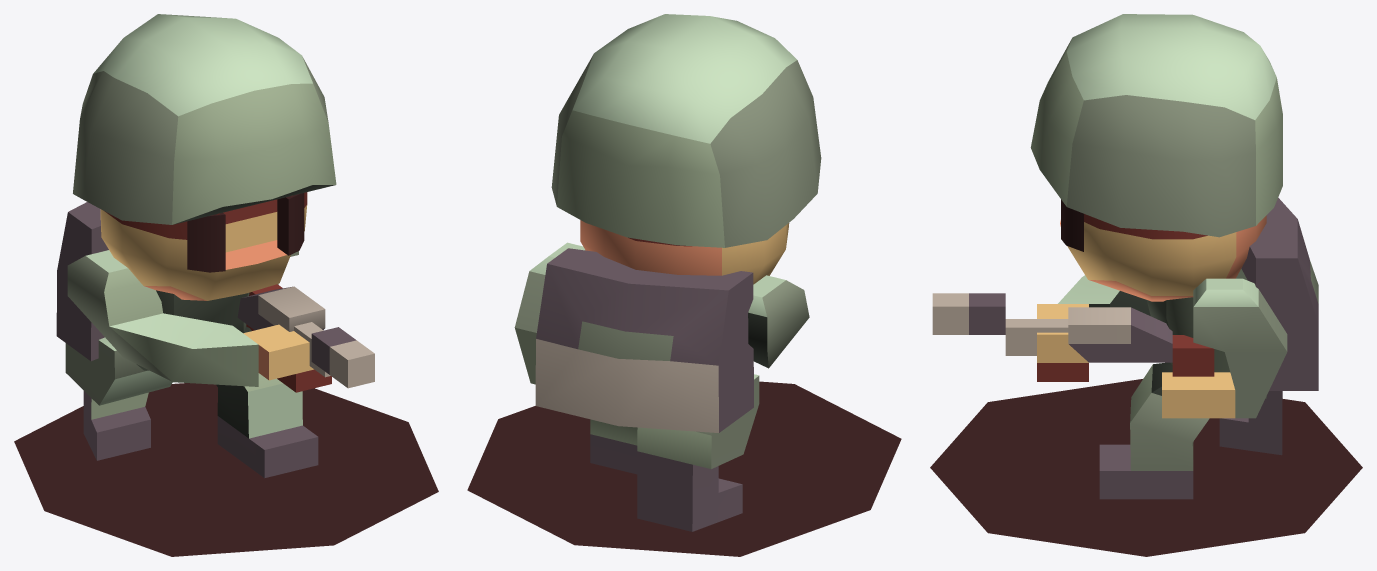
Rendered from InfantryMesh.JadeSun.glb.
The picture shows the model from 3 angles, left to right: view 1: azimuth 30°, elevation 25°; view 2: azimuth 150°, elevation 25°; view 3: azimuth 270°, elevation 25°; orthographic projection. The views are drawn at different scales.
Parts seen in each view (by area): view 1: InfantryMesh.JadeSun; view 2: InfantryMesh.JadeSun; view 3: InfantryMesh.JadeSun.
Part boxes in pixels (x1,y1,x2,y2): InfantryMesh.JadeSun: (14,14,438,556); InfantryMesh.JadeSun: (467,14,901,556); InfantryMesh.JadeSun: (930,14,1362,556).
Bounding box in the file's own units: 2.03 × 2.3 × 2.07.
Materials: 1 (1 with a texture image).
